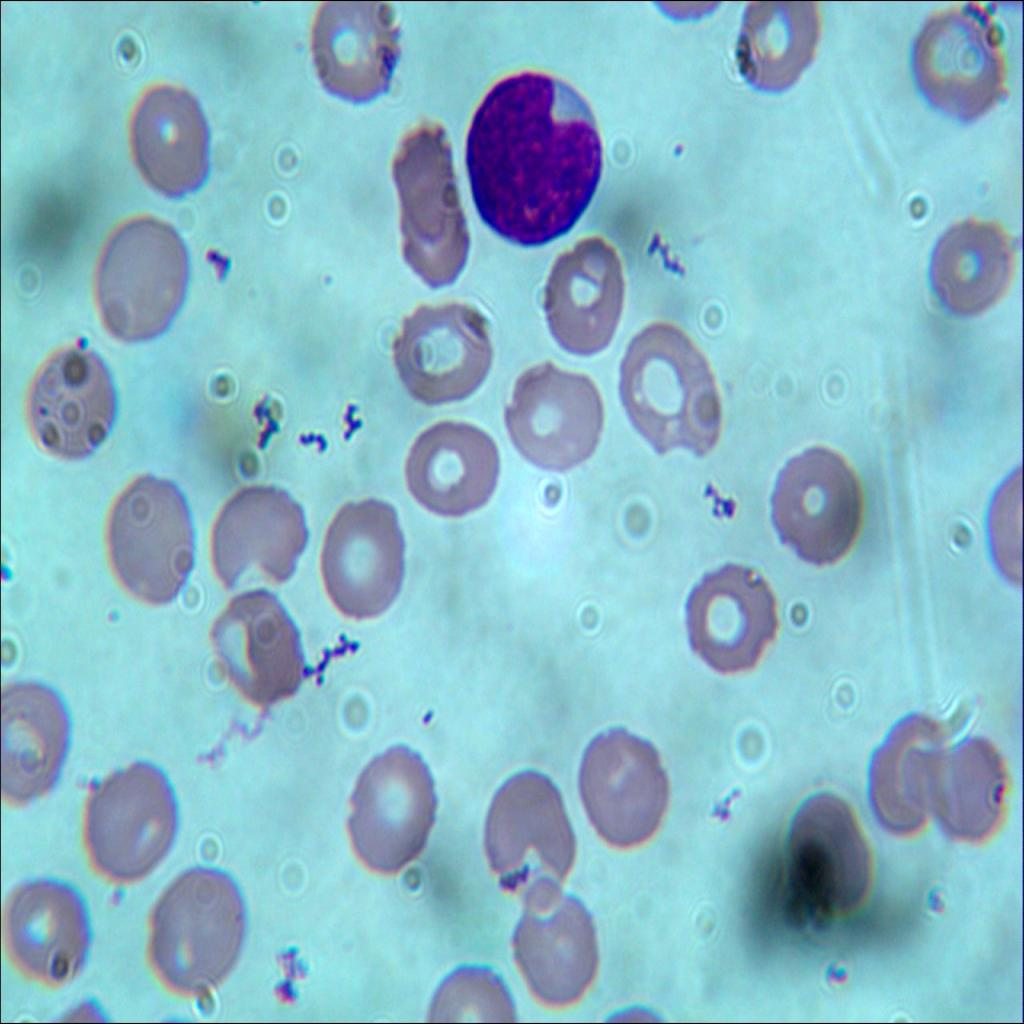Eritrosit: (104, 451, 201, 612), (679, 538, 784, 684), (621, 325, 729, 462), (138, 854, 244, 991), (478, 757, 570, 911), (210, 461, 314, 592), (908, 4, 1009, 138), (393, 292, 498, 417), (342, 741, 435, 882), (94, 214, 195, 340), (78, 755, 180, 879), (571, 732, 676, 852), (788, 784, 882, 917), (1, 864, 95, 991), (768, 445, 868, 564), (921, 207, 1023, 321), (406, 405, 503, 524), (324, 485, 410, 619), (219, 586, 313, 708), (138, 74, 224, 207), (511, 358, 606, 477), (510, 888, 600, 1011), (866, 705, 948, 837), (918, 728, 1008, 838), (28, 355, 116, 467), (386, 194, 482, 295), (0, 678, 75, 804), (546, 234, 630, 346), (308, 0, 399, 100), (733, 0, 828, 87), (396, 128, 458, 224)
Limfoblast: (462, 62, 603, 254)
Platelet: (68, 332, 91, 367), (666, 124, 686, 162), (414, 696, 435, 728)
